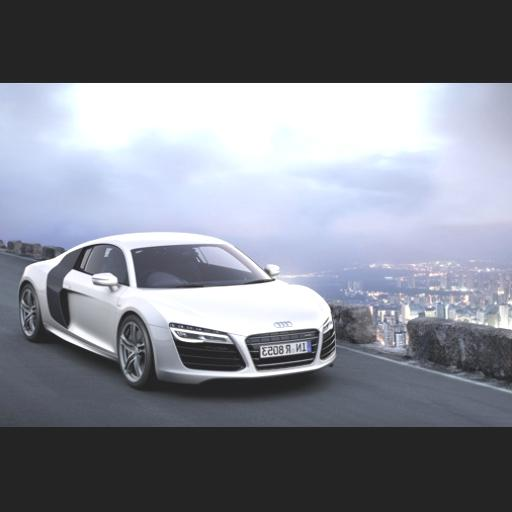sedan: (20, 232, 335, 388)
